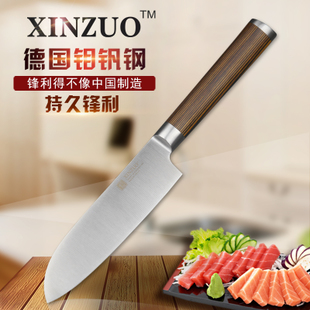knief: (39, 18, 274, 301)
